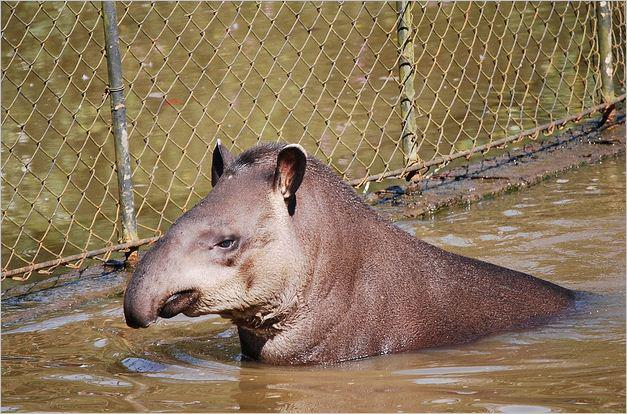Anta: (112, 137, 616, 369)
